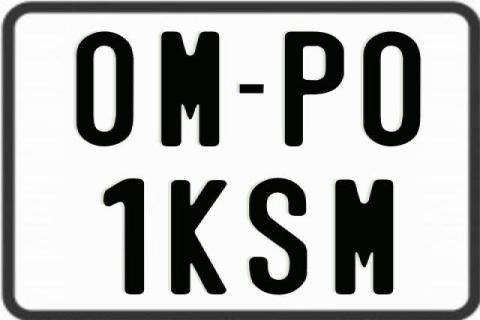0: (74, 30, 138, 148), (363, 31, 423, 147), (102, 178, 146, 298)
K: (168, 179, 225, 297)
M: (160, 29, 224, 148), (333, 180, 395, 298)
P: (285, 29, 344, 145)
S: (248, 176, 309, 297)
